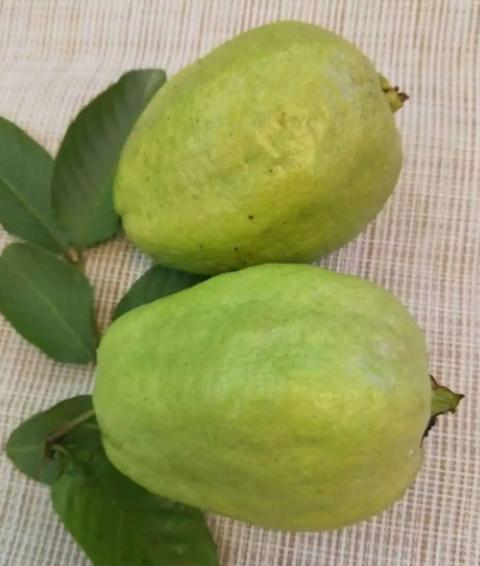guava_A: (93, 263, 434, 533)
guava_B: (112, 21, 406, 277)
